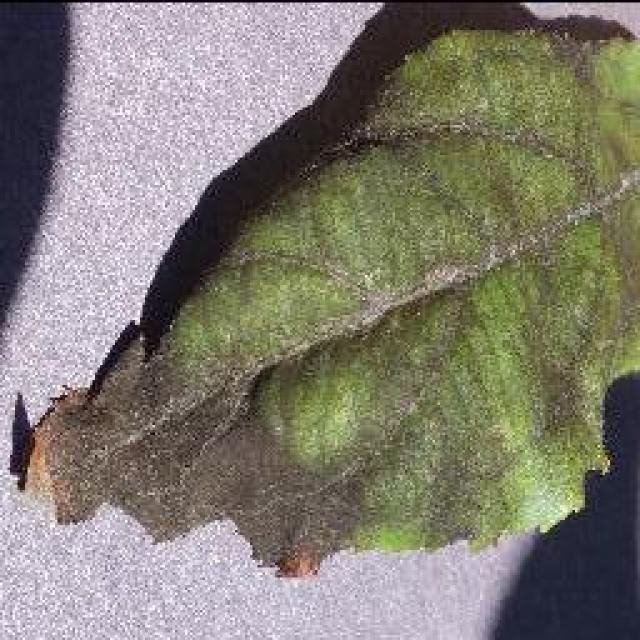Apple___Apple_scab: (19, 17, 638, 587)
